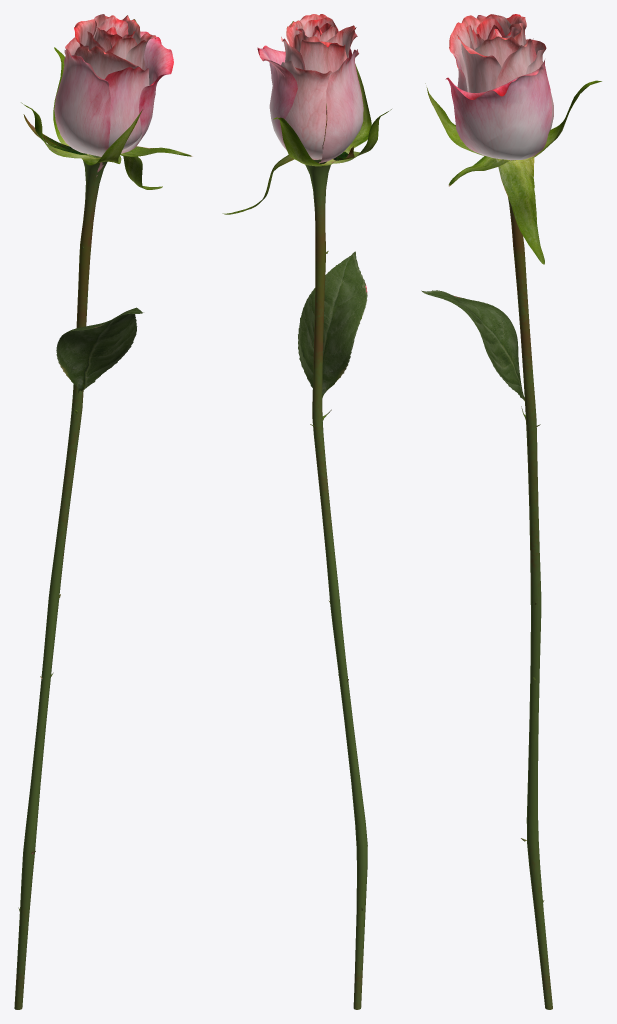
3 views of the same model, side by side, from view 1: azimuth 30°, elevation 25°; view 2: azimuth 150°, elevation 25°; view 3: azimuth 270°, elevation 25° (orthographic). The views are drawn at different scales.
Visible parts, largest first — view 1: AM108_068_11_AM108_068_03_0; view 2: AM108_068_11_AM108_068_03_0; view 3: AM108_068_11_AM108_068_03_0.
Boxes of the visible parts, <box> form: AM108_068_11_AM108_068_03_0: <box>14,14,193,1009</box>; AM108_068_11_AM108_068_03_0: <box>222,14,391,1009</box>; AM108_068_11_AM108_068_03_0: <box>421,14,601,1009</box>.
Size of the model in its own units: 3.06 by 18.07 by 2.91.
Materials: 1 (1 with a texture image).
